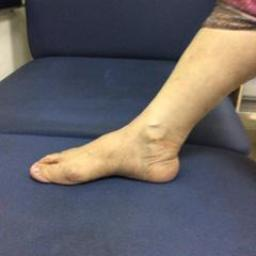Medial View -Right Foot-: (24, 97, 202, 197)
